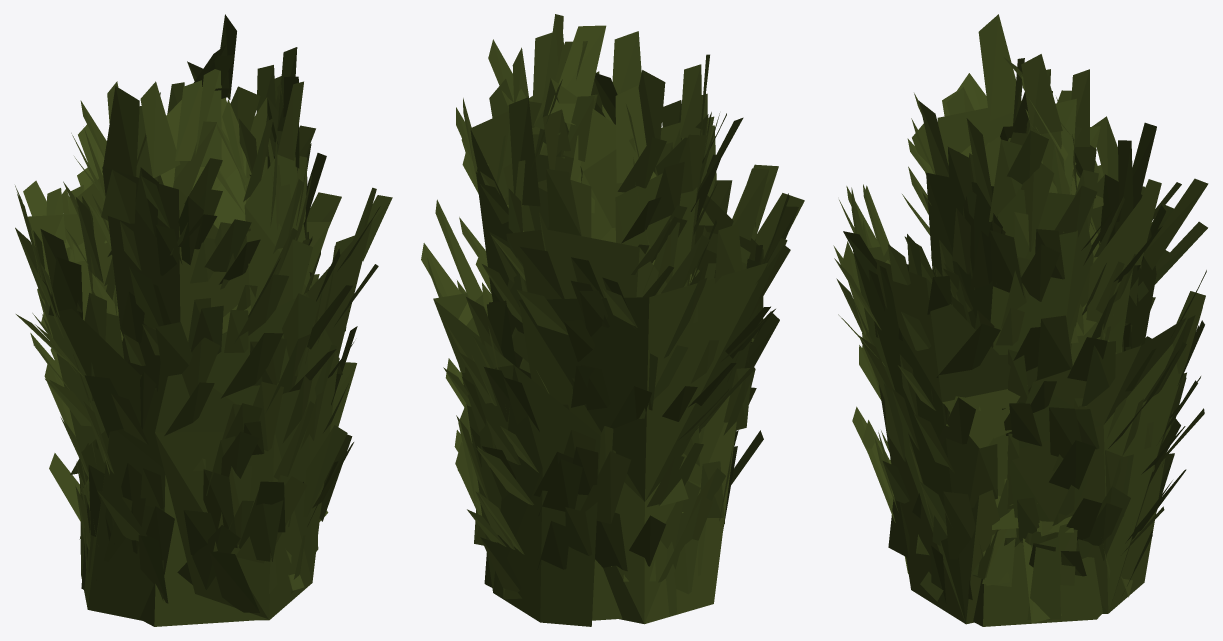
Rendered from SM_Bush_Yew_Mature_C.fbx.
The picture shows the model from 3 angles, left to right: view 1: azimuth 30°, elevation 25°; view 2: azimuth 150°, elevation 25°; view 3: azimuth 270°, elevation 25°; orthographic projection. The views are drawn at different scales.
Parts seen in each view (by area): view 1: bush-yew-mature-c; view 2: bush-yew-mature-c; view 3: bush-yew-mature-c.
Part boxes in pixels (left/top/right/bottom): bush-yew-mature-c: left=15, top=14, right=392, bottom=626; bush-yew-mature-c: left=421, top=14, right=804, bottom=626; bush-yew-mature-c: left=833, top=14, right=1208, bottom=626.
Bounding box in the file's own units: 0.9131 × 1.48 × 0.9205.
